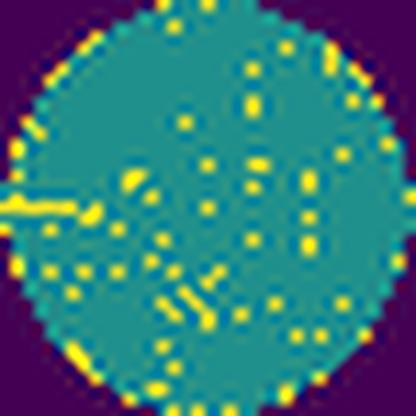Scratch: (0, 192, 108, 230)
